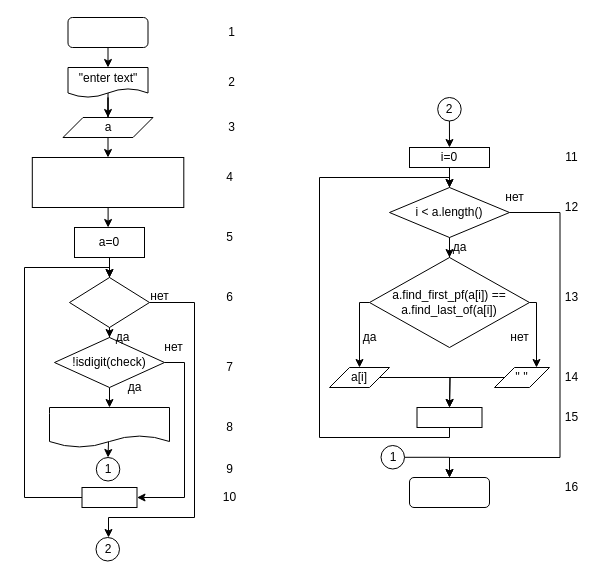
The diagram is 603 pixels wide and 579 high, and some of its shapes have lost their labels. The shapes that lost their labels are listed below. From the top down, each one's centre as x and y in pixels, then its label:
(x=107, y=32): начало
(x=107, y=182): transform(a.begin(), a.end(), a.begin(), ::tolower)
(x=109, y=302): a<.length()
(x=109, y=427): ''text mustn't contain numbers''
(x=449, y=417): i++
(x=109, y=497): a++
(x=449, y=492): конец
